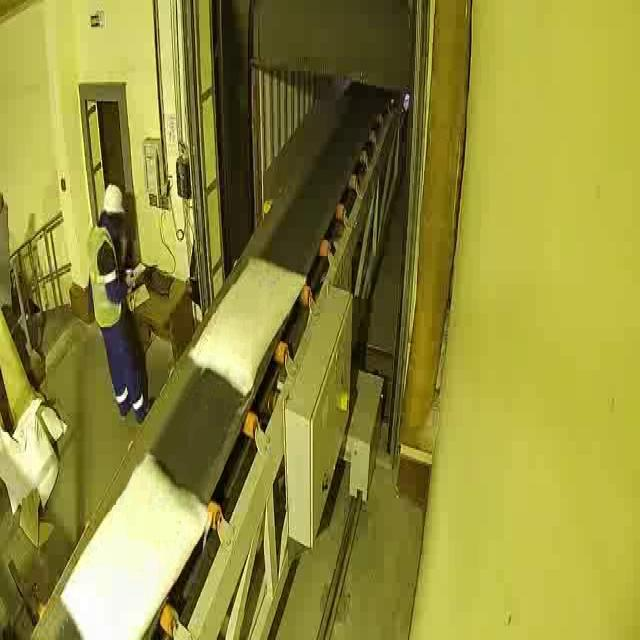bag: (58, 448, 210, 635), (187, 251, 306, 398)
